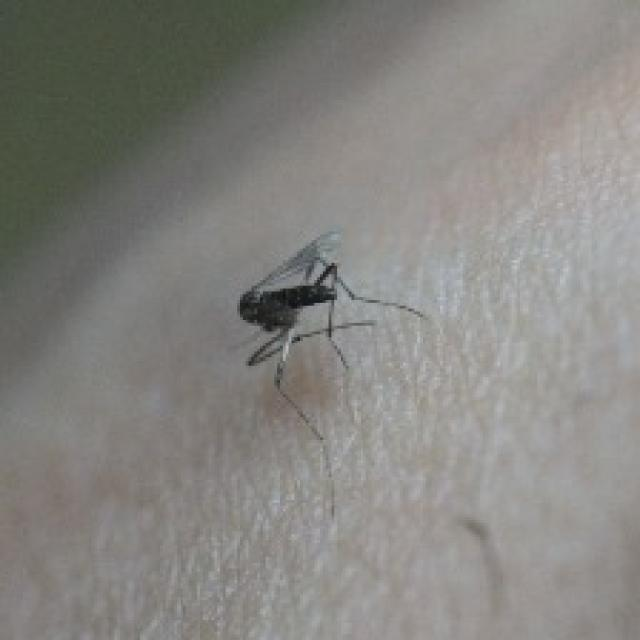aedes: (234, 226, 429, 517)
